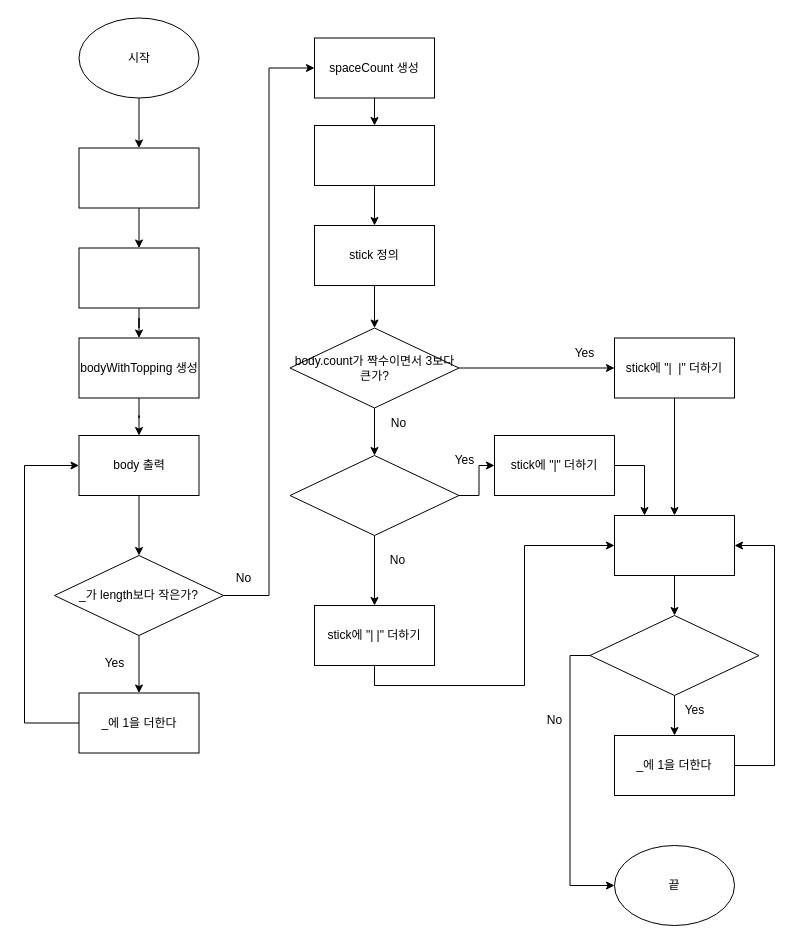
The diagram is 800 pixels wide and 943 high, and some of its shapes have lost their labels. Each missing label, with the centre of its shape:
_가 height보다 작은가?: (x=674, y=655)
body.count가 3보다 작은가?: (x=374, y=495)
bodyLength: 12 body: "***" stickLength: 4 topping: "&": (x=138, y=177)
space 생성: (x=374, y=155)
stick 출력: (x=674, y=545)
정보 출력: (x=138, y=277)
